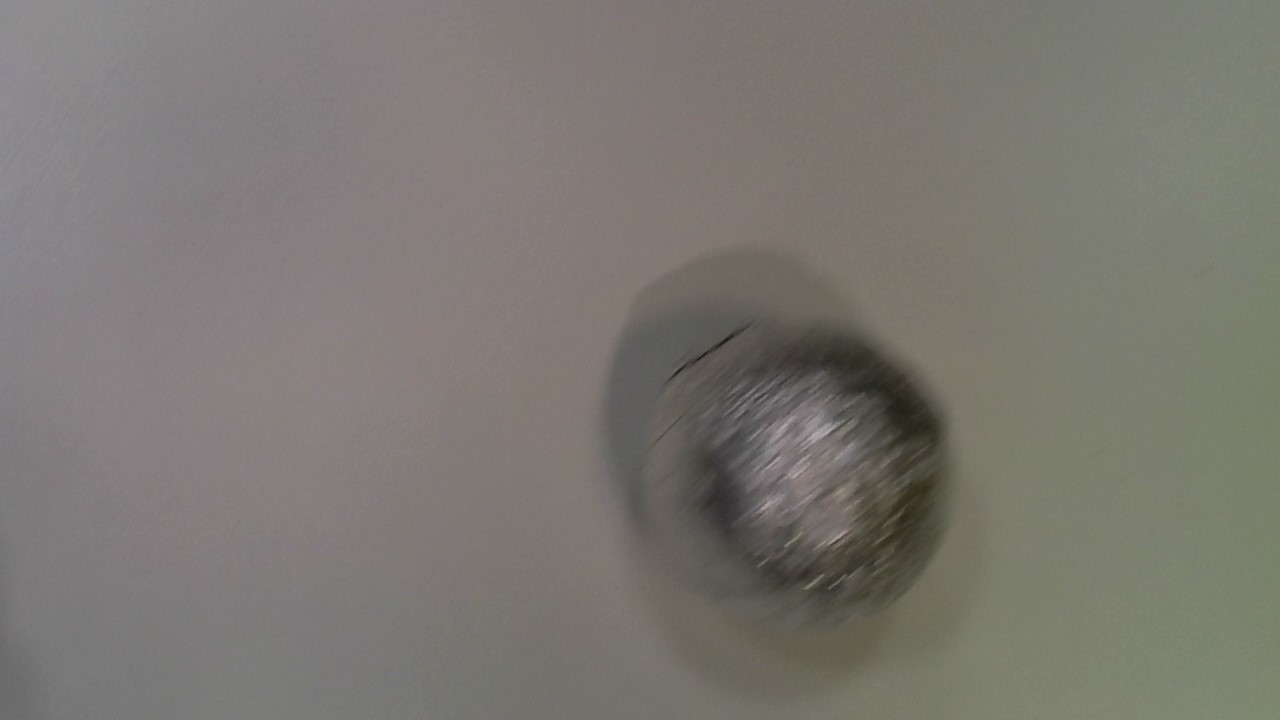silver_ball: (630, 301, 966, 645)
